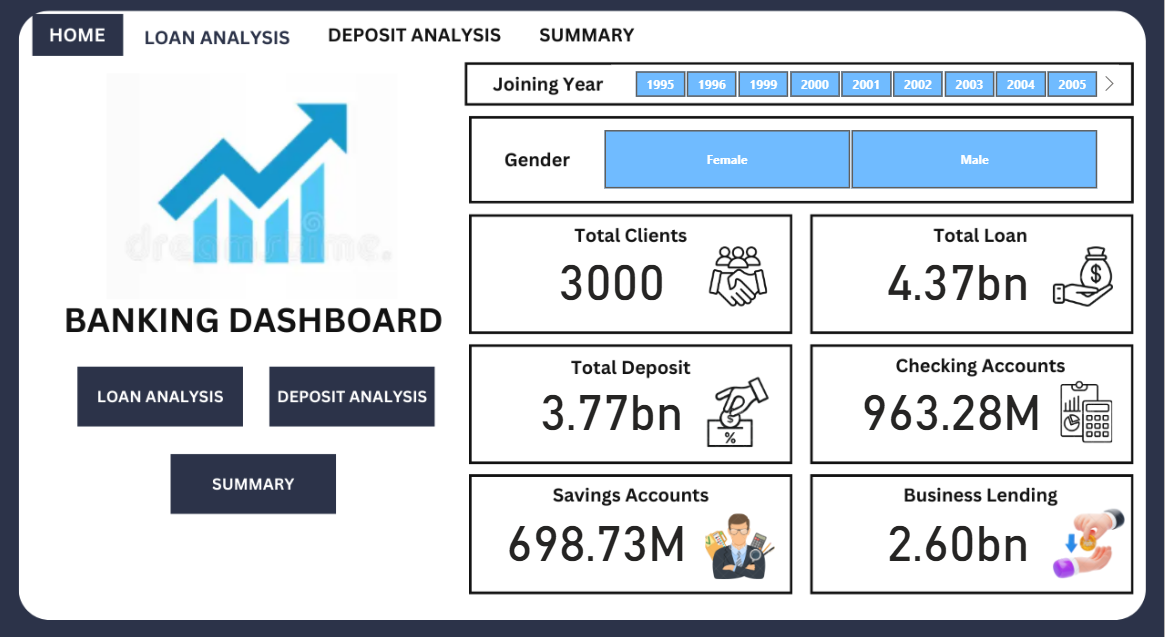

What the dashboard file says about the page in this screenshot:
{"tool":"powerbi","page":{"name":"Home","canvas":[1280,720],"ordinal":0},"visuals":[{"type":"slicer","fields":{"Values":["banking_case customer.GenderId"]},"box":[639.5,145.5,591.4,78.2],"z":0},{"type":"card","fields":{"Values":["banking_case customer.Name"]},"box":[570.8,288.2,205.8,71.4],"z":1000},{"type":"card","fields":{"Values":["banking_case customer.Total Loan"]},"box":[950.9,288.2,205.8,71.4],"z":2000},{"type":"card","fields":{"Values":["banking_case customer.Total Deposit"]},"box":[570.8,430.9,205.8,71.4],"z":3000},{"type":"card","fields":{"Values":["banking_case customer.Checking Accounts"]},"box":[935.9,430.9,220.9,71.4],"z":4000},{"type":"card","fields":{"Values":["banking_case customer.Saving Accounts"]},"box":[536.5,575,240.1,71.4],"z":5000},{"type":"card","fields":{"Values":["banking_case customer.Business Lending"]},"box":[950.9,575,205.8,71.4],"z":6000},{"type":"slicer","fields":{"Values":["banking_case customer.YEAR OF JOINING"]},"box":[673.8,81,557.1,38.4],"z":6001},{"type":"actionButton","box":[85.1,413,186.6,63.1],"z":6002},{"type":"actionButton","box":[296.4,413,186.6,63.1],"z":6003},{"type":"actionButton","box":[188,511.8,186.6,63.1],"z":6004},{"type":"actionButton","box":[38.4,26.1,100.2,42.5],"z":6005}]}

Visuals, with their boxes in screenshot pixels (x1, y1, x2, y2), scaled from the page's 1280x720 canvas onto the 1165x637 screenshot:
slicer - banking_case customer.GenderId: bbox(582, 129, 1120, 198)
card - banking_case customer.Name: bbox(520, 255, 707, 318)
card - banking_case customer.Total Loan: bbox(865, 255, 1053, 318)
card - banking_case customer.Total Deposit: bbox(520, 381, 707, 444)
card - banking_case customer.Checking Accounts: bbox(852, 381, 1053, 444)
card - banking_case customer.Saving Accounts: bbox(488, 509, 707, 572)
card - banking_case customer.Business Lending: bbox(865, 509, 1053, 572)
slicer - banking_case customer.YEAR OF JOINING: bbox(613, 72, 1120, 106)
actionButton: bbox(77, 365, 247, 421)
actionButton: bbox(270, 365, 440, 421)
actionButton: bbox(171, 453, 341, 509)
actionButton: bbox(35, 23, 126, 61)
